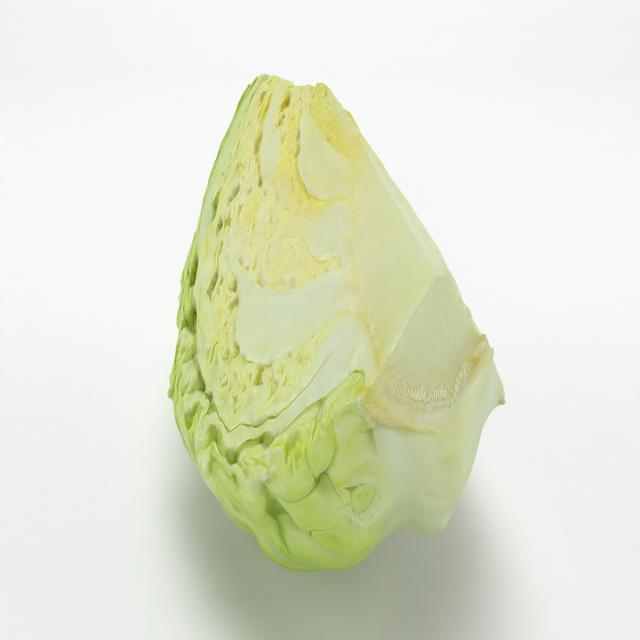cabbage: (159, 68, 506, 572)
